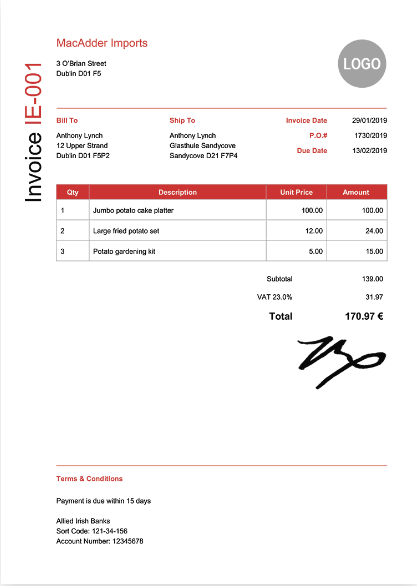Table: (46, 167, 386, 331)
